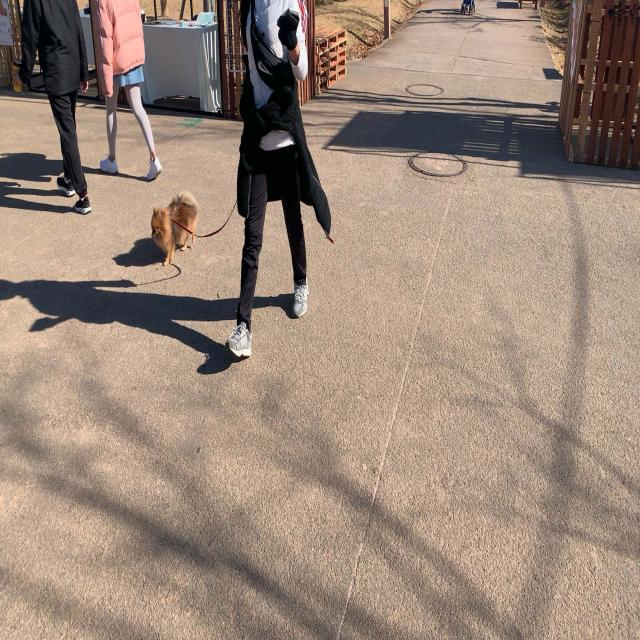Leashed_Dog: (150, 145, 264, 267)
